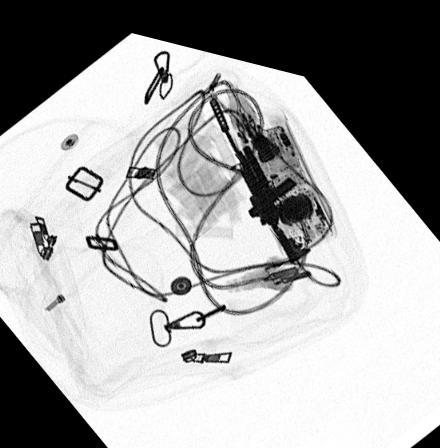Gun: (207, 84, 314, 250)
